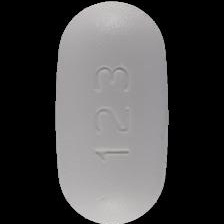0615-7771: (0, 0, 224, 224)
